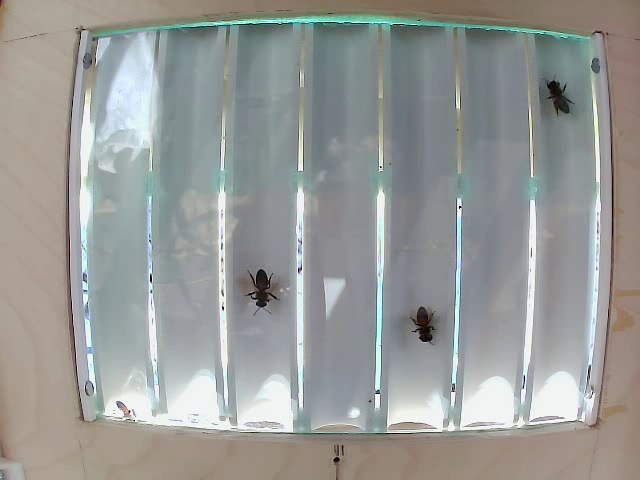bee: (401, 300, 440, 350), (539, 71, 573, 124), (243, 262, 278, 309)
